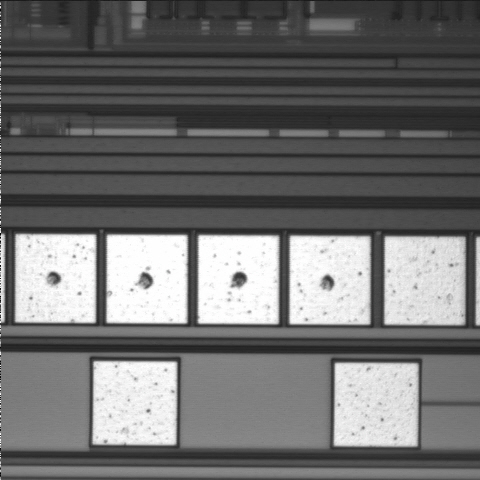pad: (15, 234, 96, 323), (198, 235, 279, 324), (93, 361, 177, 445), (107, 235, 187, 323), (290, 236, 370, 324), (385, 237, 465, 325), (334, 363, 418, 446)
